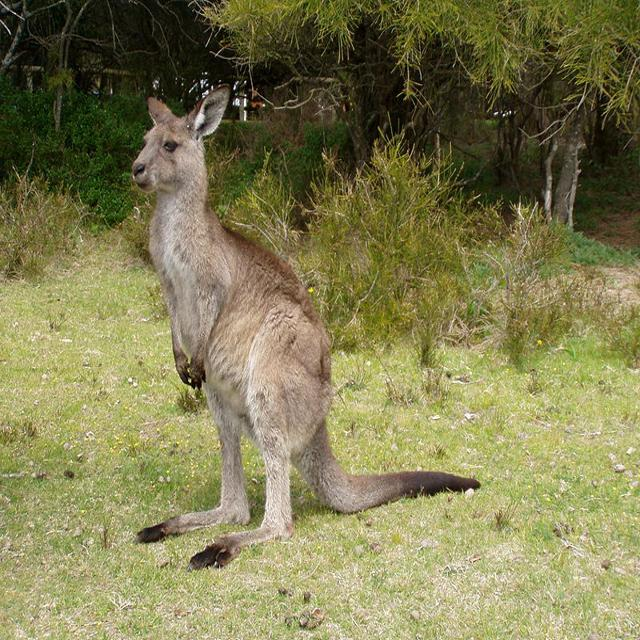kangaroo: (126, 94, 334, 548)
